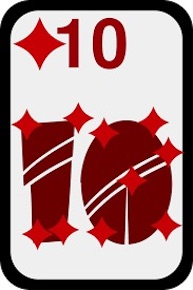TenOfDiamonds: (8, 8, 185, 280)
